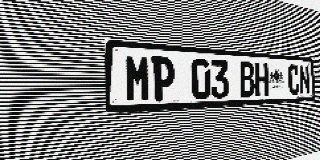0: (191, 58, 211, 100)
3: (211, 60, 229, 99)
B: (239, 61, 255, 97)
C: (288, 64, 300, 95)
H: (254, 62, 269, 97)
M: (125, 54, 151, 103)
N: (299, 65, 310, 95)
P: (151, 56, 175, 101)
